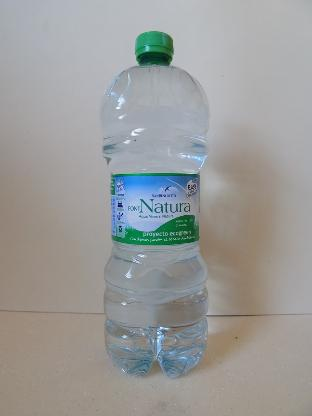Plastic Bottle: (94, 24, 222, 380)
